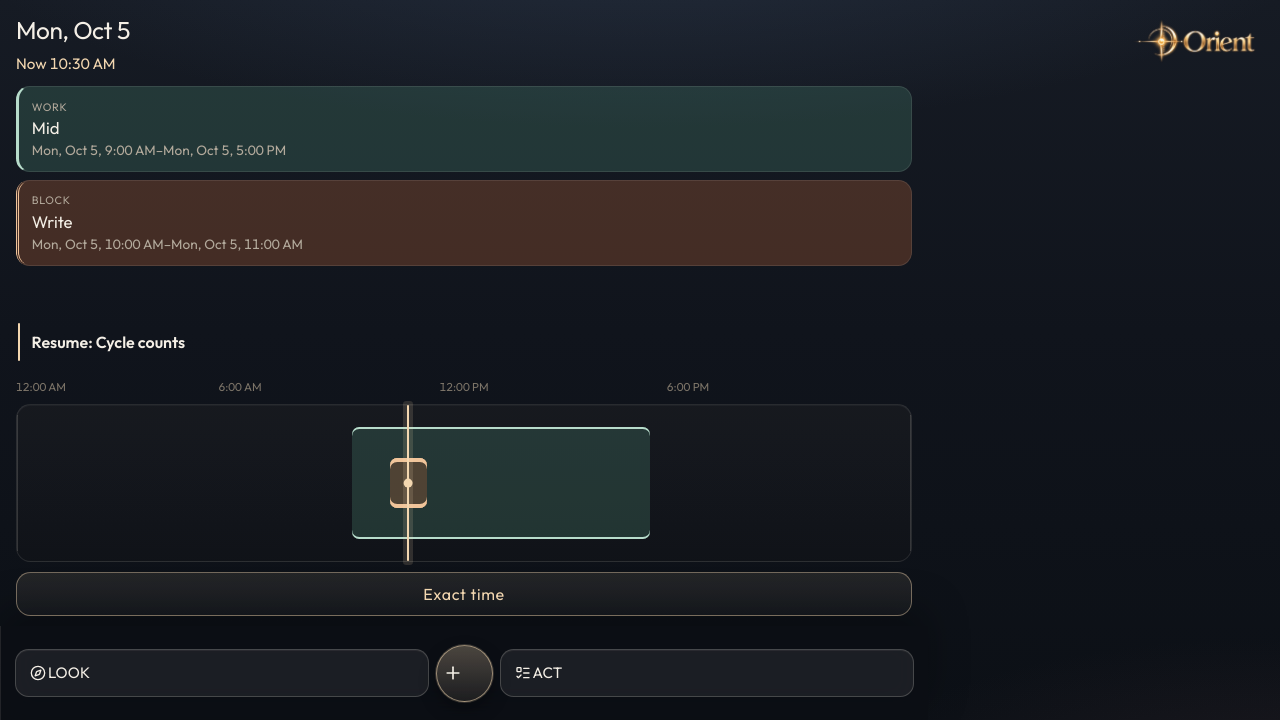
timed fact civil-date correction › offers the same date field on the phone
This screenshot has width=1280, height=720.
Click the button "Block Write Mon, Oct 5, 10:00 AM–Mon, Oct 5, 11:00 AM". click: [51, 200]
box: [16,180,912,266]
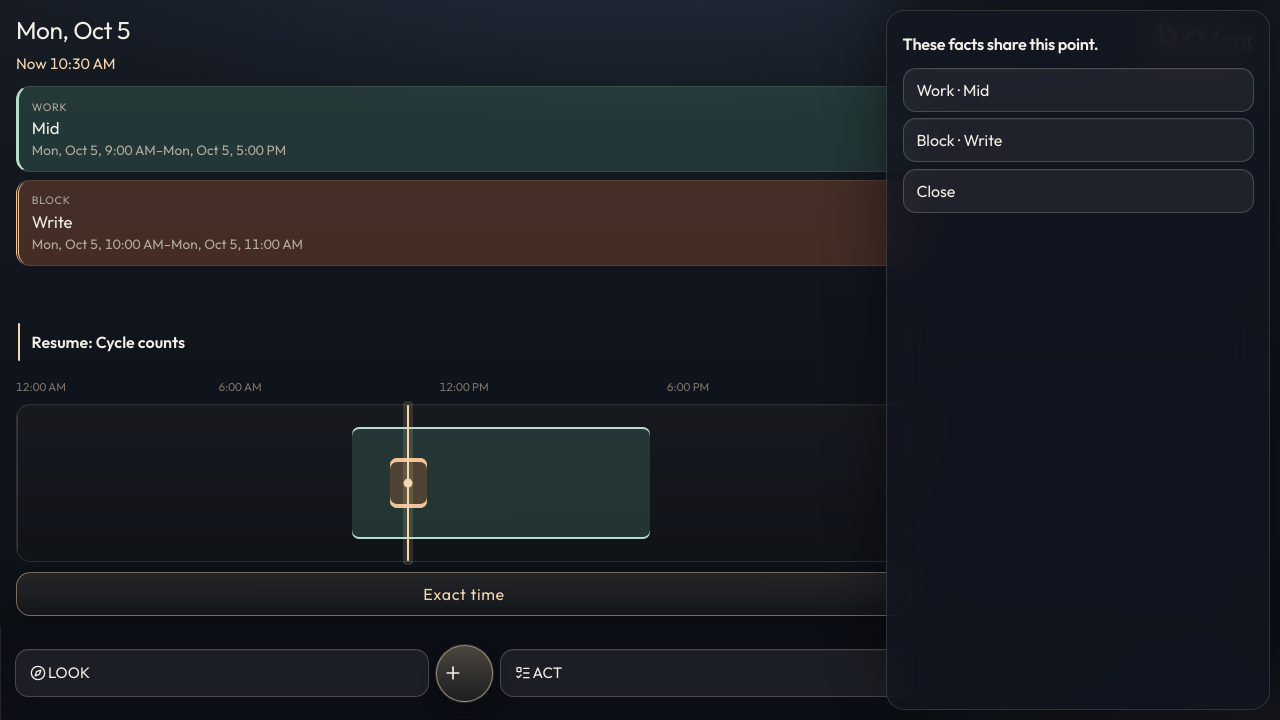
Click the button "Block · Write". click: [936, 140]
box: [903,118,1254,162]
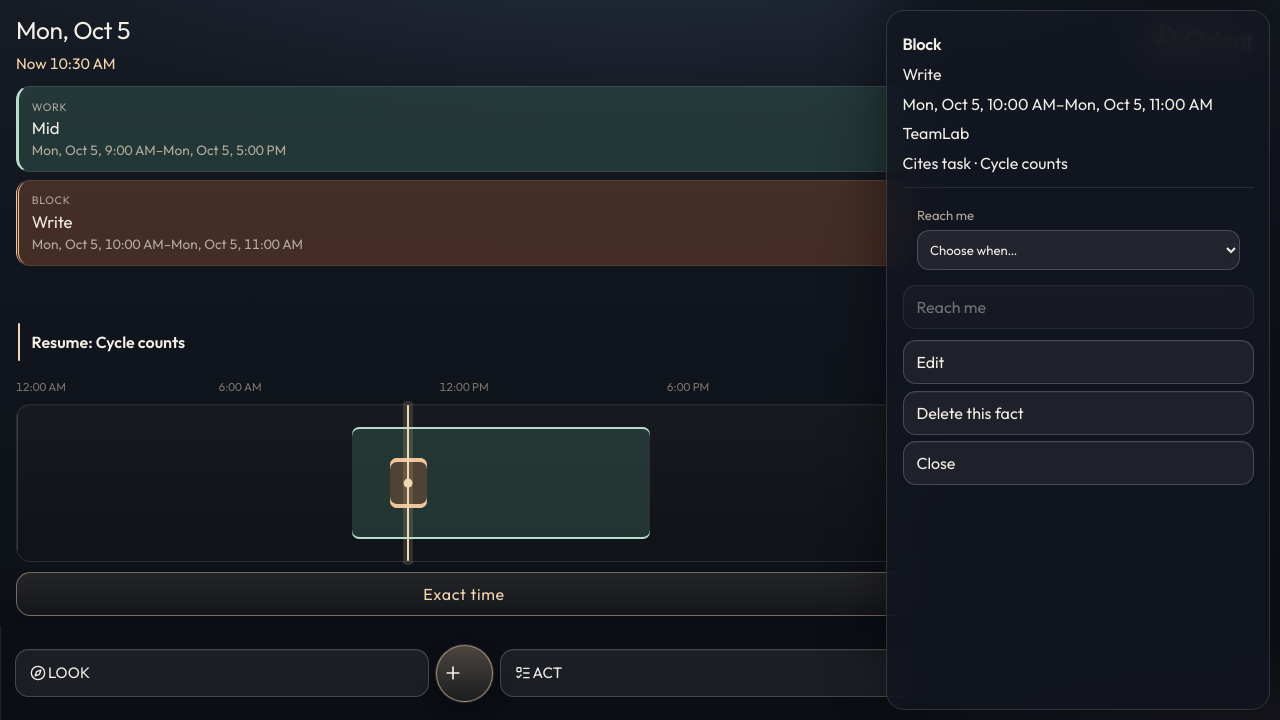
Click the button "Edit". click: [930, 362]
box: [903,340,1254,384]
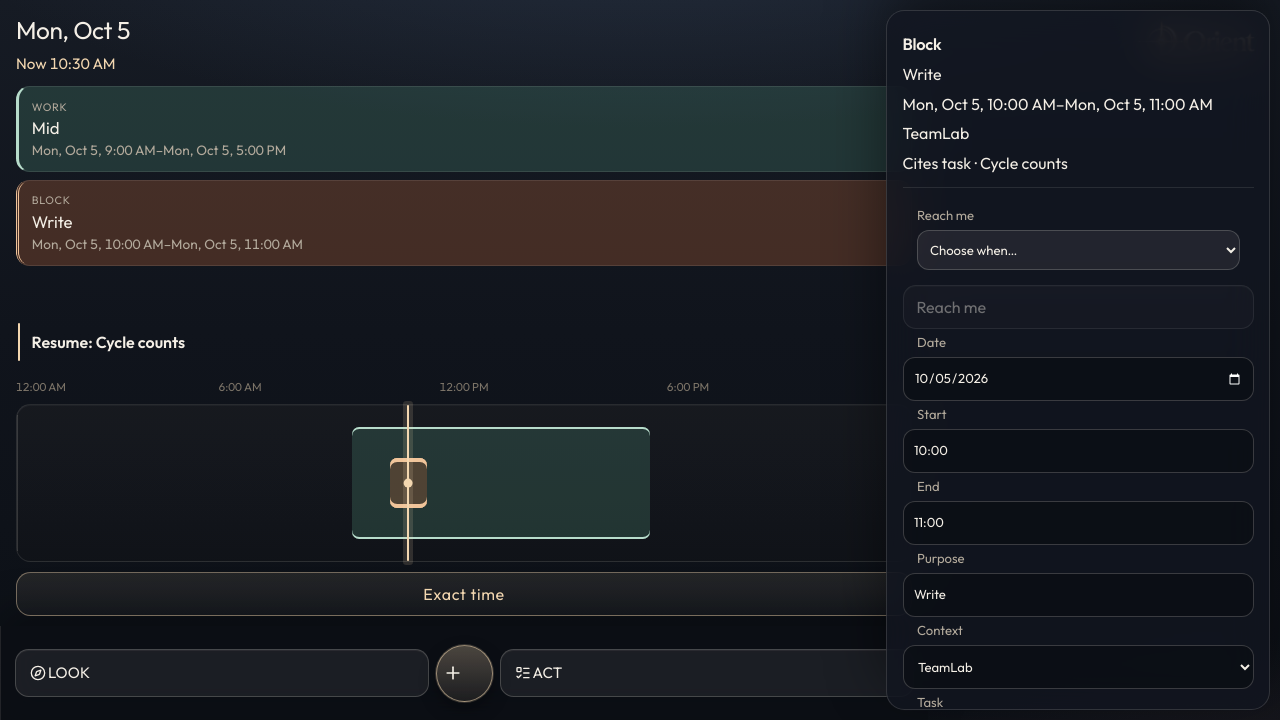
Check: the date field named "Fact date" holds "2026-10-05", box [903,357,1254,401]
